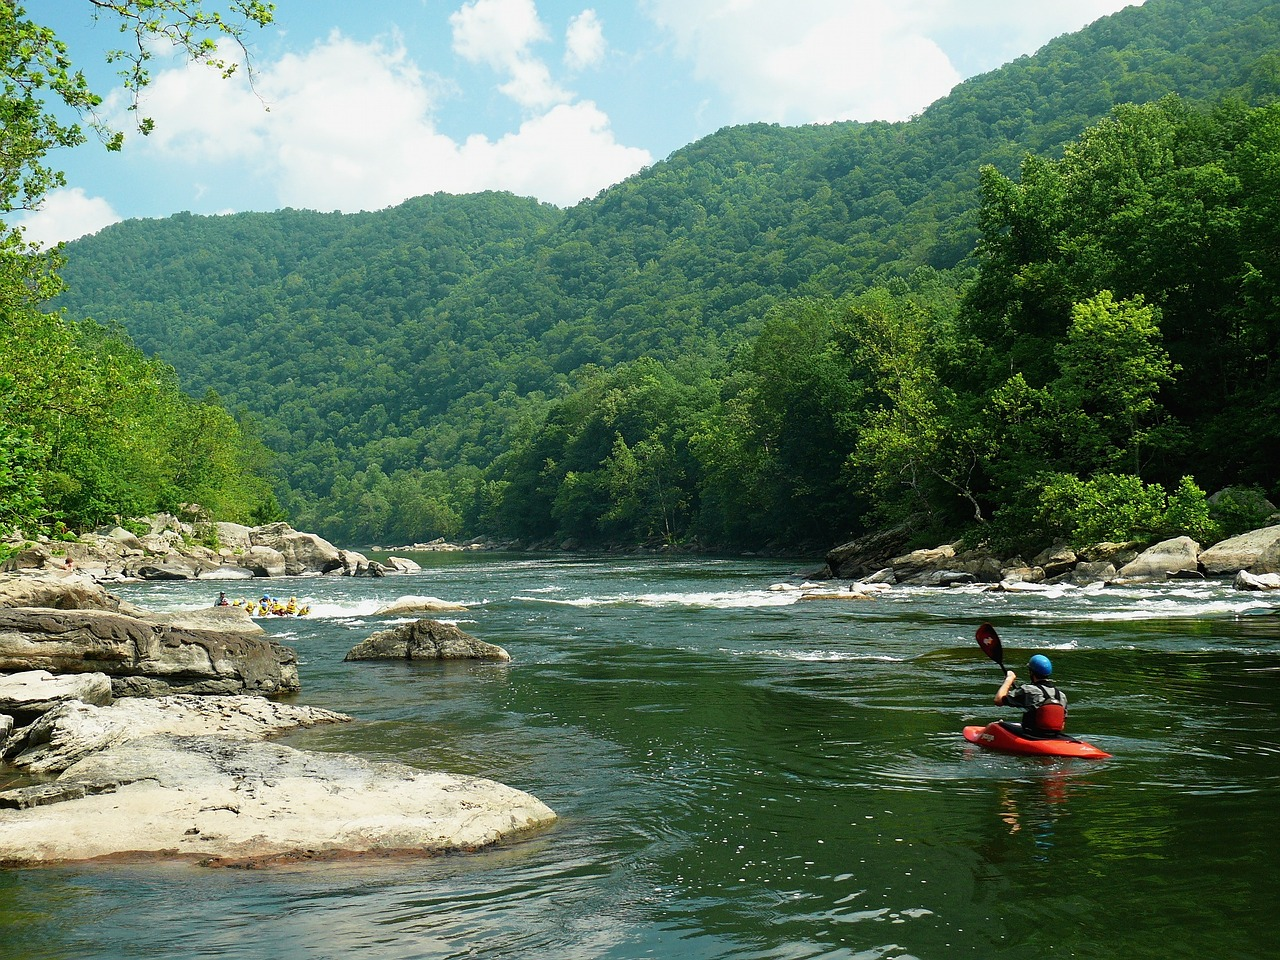kayak: (959, 719, 1116, 762)
